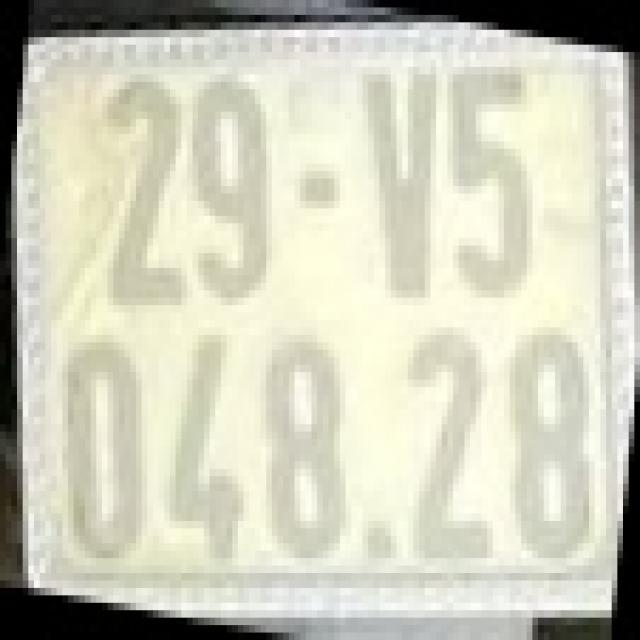0: (56, 334, 148, 558)
2: (96, 67, 193, 313), (396, 320, 493, 558)
4: (164, 328, 249, 558)
5: (447, 60, 538, 298)
8: (260, 328, 352, 558), (510, 328, 594, 558)
9: (187, 67, 272, 298)
V: (362, 67, 442, 298)
